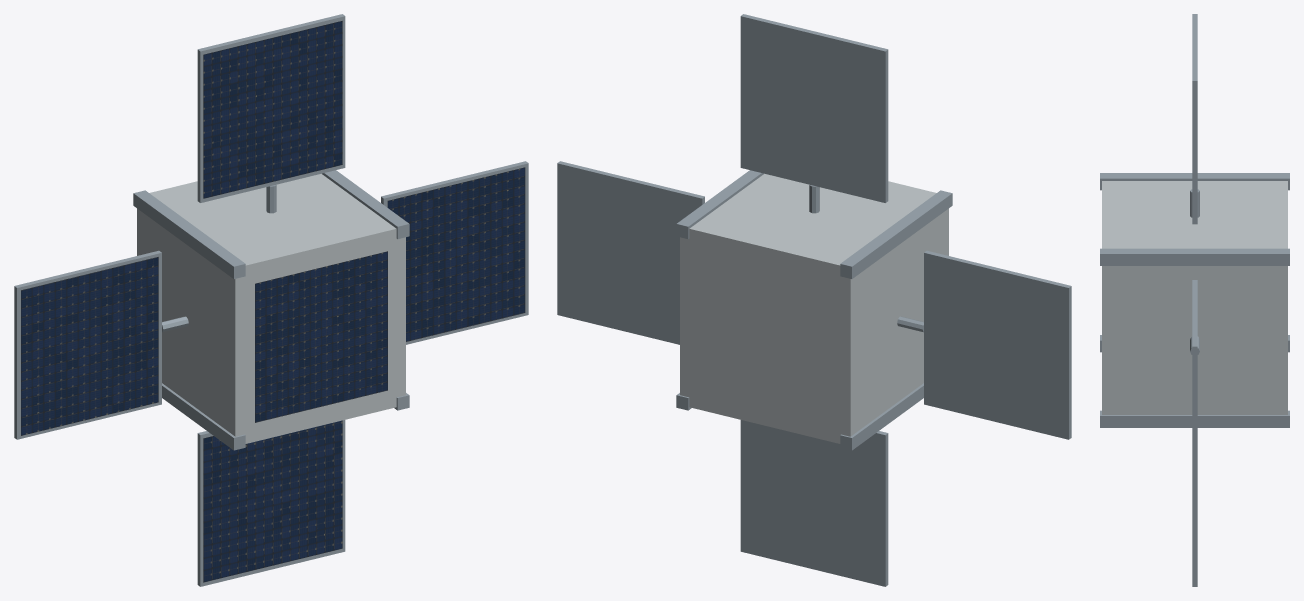
File: ref-cubesat-1u-39567.glb
The picture shows the model from 3 angles, left to right: view 1: azimuth 30°, elevation 25°; view 2: azimuth 150°, elevation 25°; view 3: azimuth 270°, elevation 25°; orthographic projection. The views are drawn at different scales.
Parts seen in each view (by area): view 1: Photovoltaic laminates (×4), Spacecraft body, Body-mounted cells, Array frame (×4), Dispenser rail (×3); view 2: Array frame (×4), Spacecraft body, Dispenser rail (×3); view 3: Spacecraft body, Dispenser rail (×3), Array frame (×3).
Boxes of the visible parts, left/top/right/bottom form: Photovoltaic laminates (×4): left=21, top=21, right=525, bottom=582; Spacecraft body: left=137, top=173, right=405, bottom=443; Body-mounted cells: left=255, top=251, right=387, bottom=422; Array frame (×4): left=14, top=14, right=528, bottom=586; Dispenser rail (×3): left=133, top=170, right=409, bottom=450; Array frame (×4): left=557, top=14, right=1071, bottom=586; Spacecraft body: left=680, top=173, right=948, bottom=443; Dispenser rail (×3): left=676, top=170, right=952, bottom=450; Spacecraft body: left=1102, top=181, right=1287, bottom=414; Dispenser rail (×3): left=1100, top=173, right=1289, bottom=427; Array frame (×3): left=1192, top=14, right=1197, bottom=586.
Bounding box in the file's own units: 0.3 × 0.3 × 0.102.
Materials: 3 (1 with a texture image).
